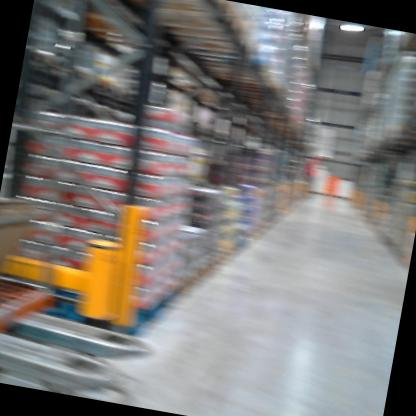pallet: (12, 265, 172, 349)
